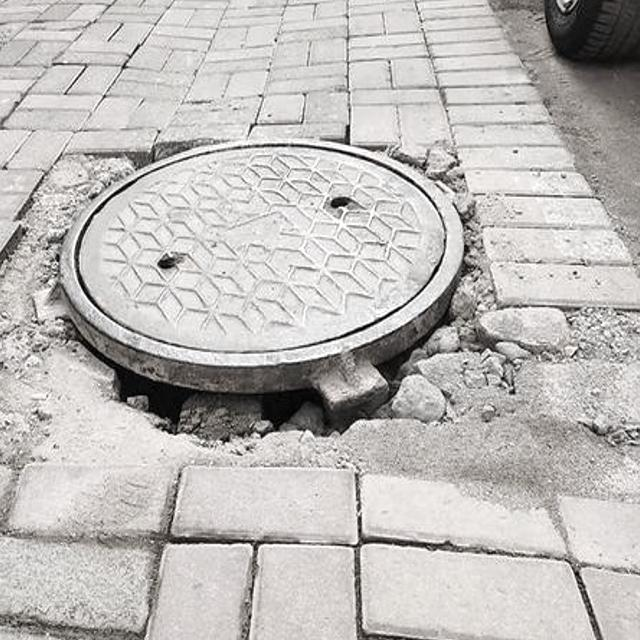circle: (0, 138, 570, 465)
